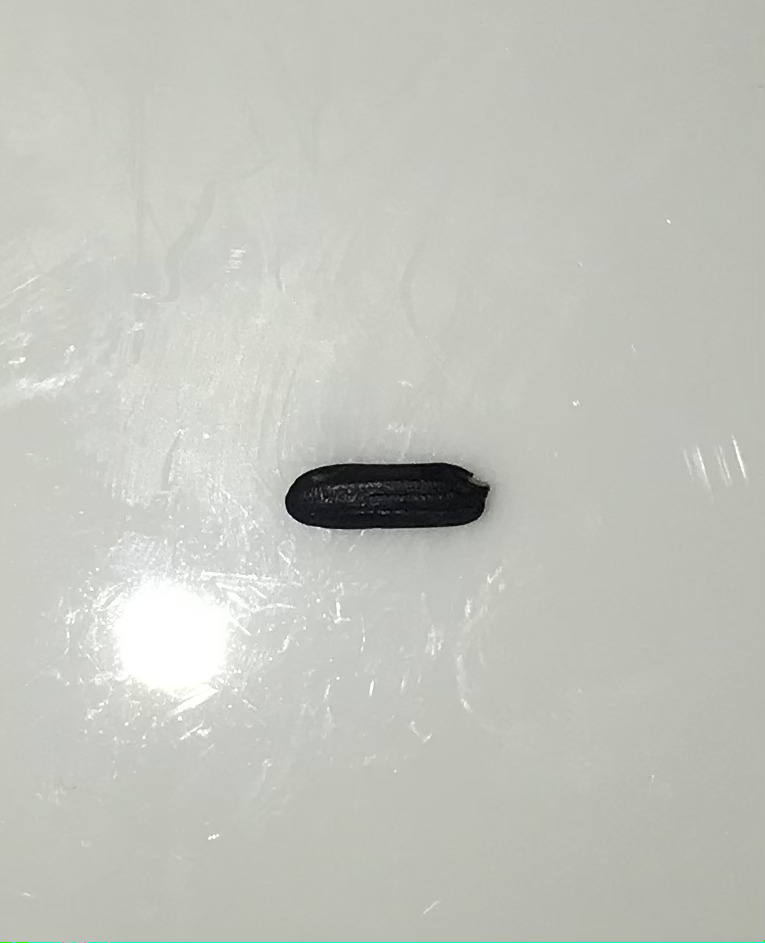Gao lut: (285, 455, 491, 538)
